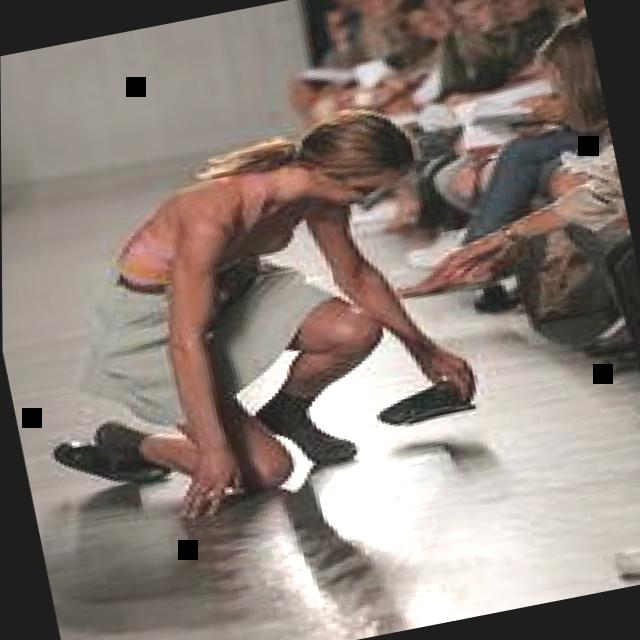Fall-Detected: (0, 68, 514, 533)
